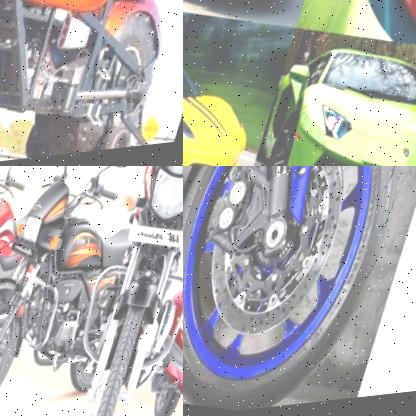bike: (183, 166, 416, 416), (18, 166, 183, 416), (0, 166, 145, 416), (132, 166, 183, 416), (0, 166, 45, 391)
car: (246, 24, 416, 166), (183, 27, 276, 166)
